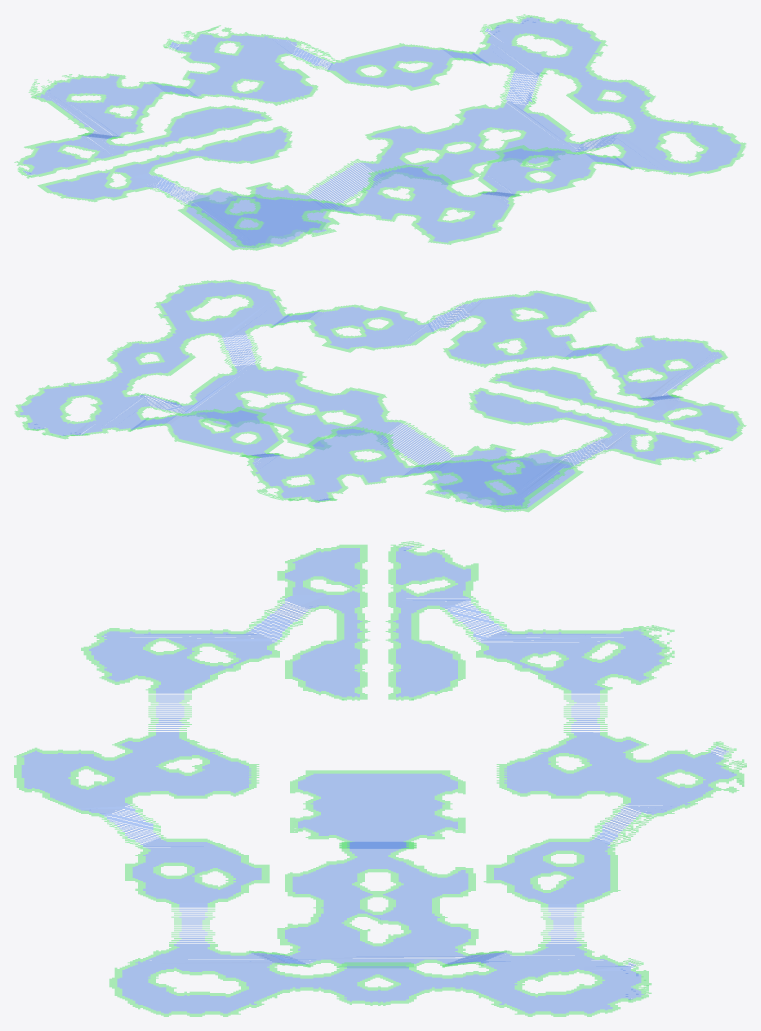
Rendered from bot_nav.glb.
3 views of the same model, one above another, from view 1: azimuth 30°, elevation 25°; view 2: azimuth 150°, elevation 25°; view 3: azimuth 270°, elevation 25° (orthographic). The views are drawn at different scales.
Visible parts, largest first — view 1: bot_nav_vehicle, bot_nav_robot; view 2: bot_nav_vehicle, bot_nav_robot; view 3: bot_nav_vehicle, bot_nav_robot.
Part boxes in pixels (box(x1,y1,x2,y2)): bot_nav_vehicle: box(22, 17, 740, 248); bot_nav_robot: box(14, 14, 746, 250); bot_nav_vehicle: box(19, 281, 740, 509); bot_nav_robot: box(14, 279, 746, 512); bot_nav_vehicle: box(21, 546, 736, 1013); bot_nav_robot: box(14, 541, 746, 1016).
Size of the model in its own units: 368 by 51.24 by 284.
